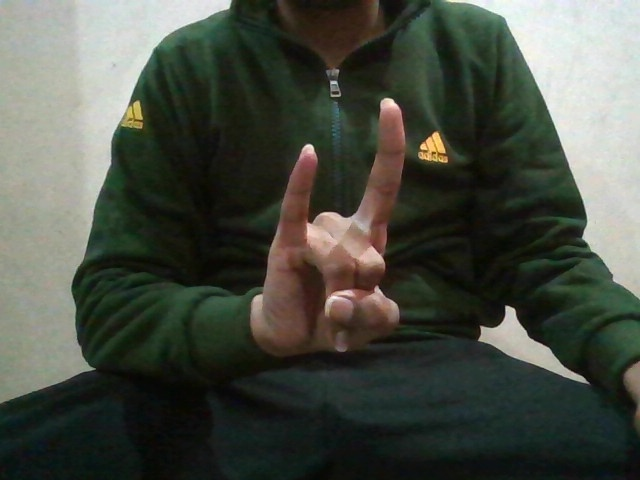U: (251, 100, 414, 356)
